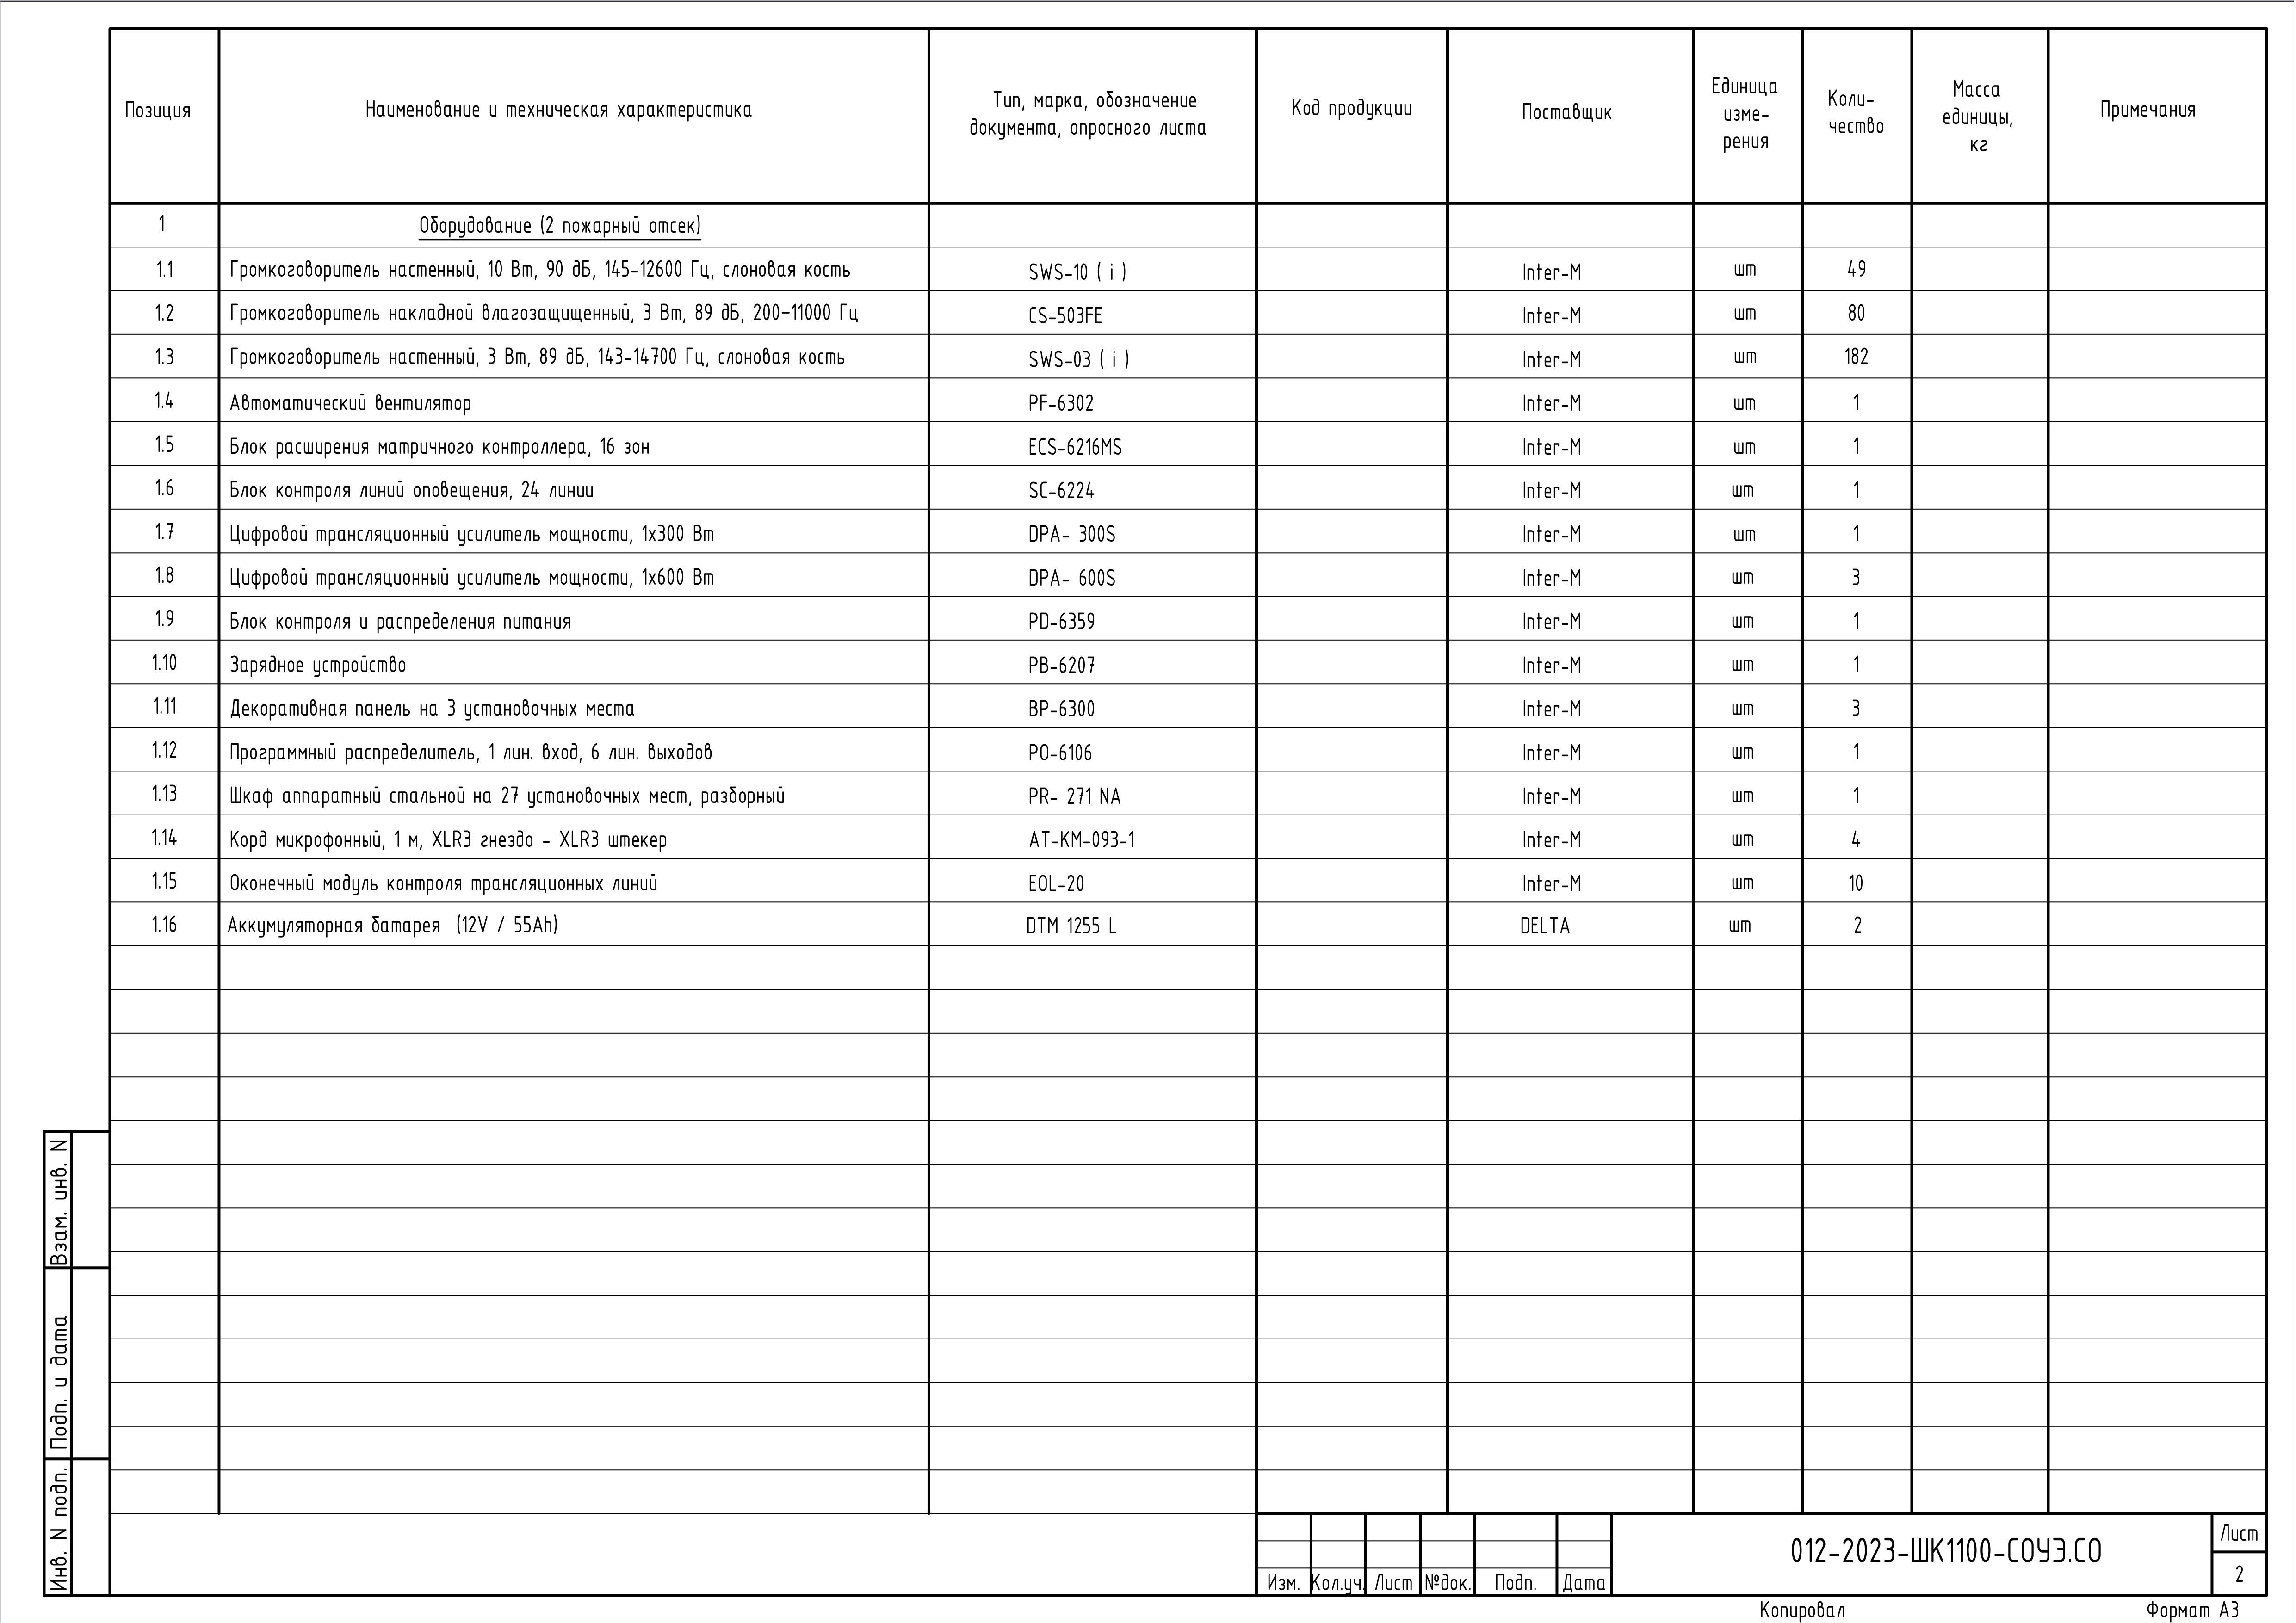Name of costs: (220, 204, 929, 1512)
Note: (930, 201, 1256, 1513)
Quantity: (1802, 203, 1912, 1513)
Unit of measurement: (1693, 204, 1803, 1512)
